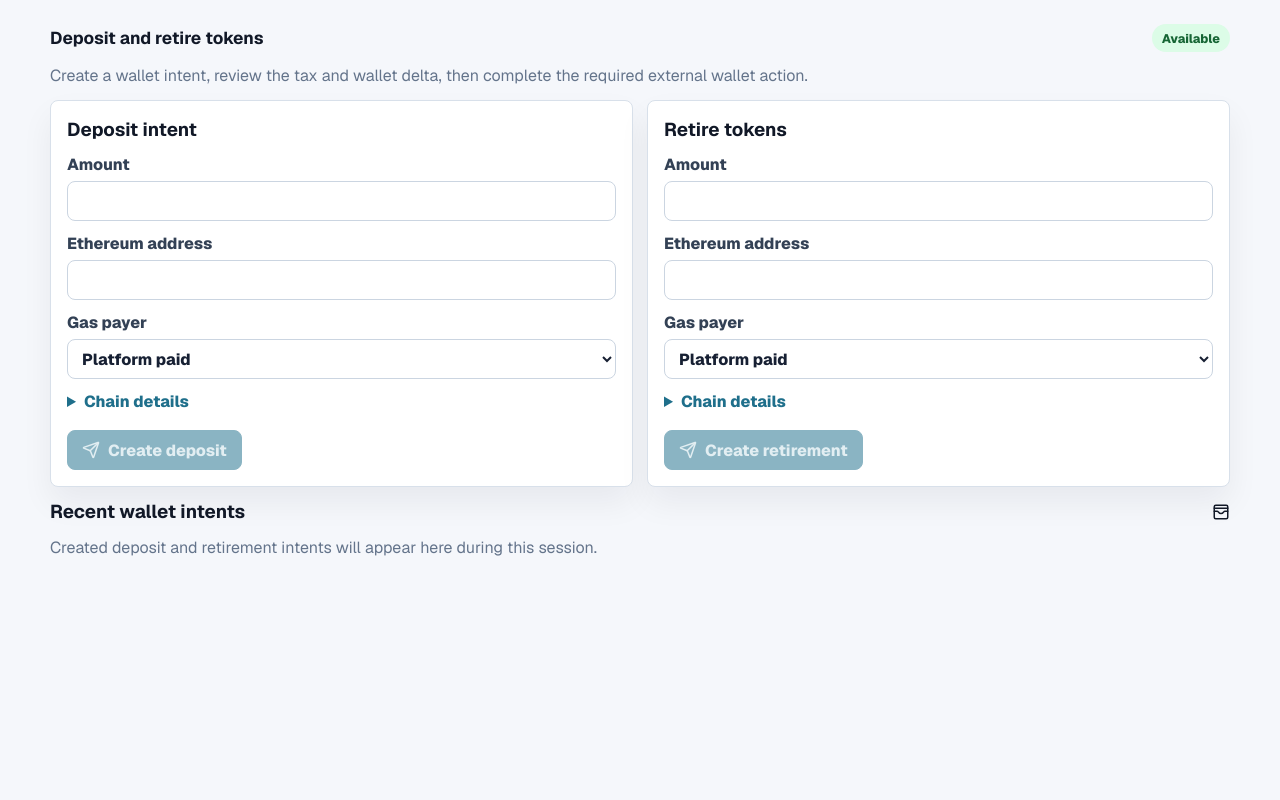
it: WalletTransferPanel › creates a deposit intent and shows tax, delta, receiver, and wallet action
Check: the form "Deposit intent" is shown, box [50,100,633,487]
Type "20" into the number field labelled "Amount" below "Deposit intent". click: (342, 201)
box: [67,181,616,221]
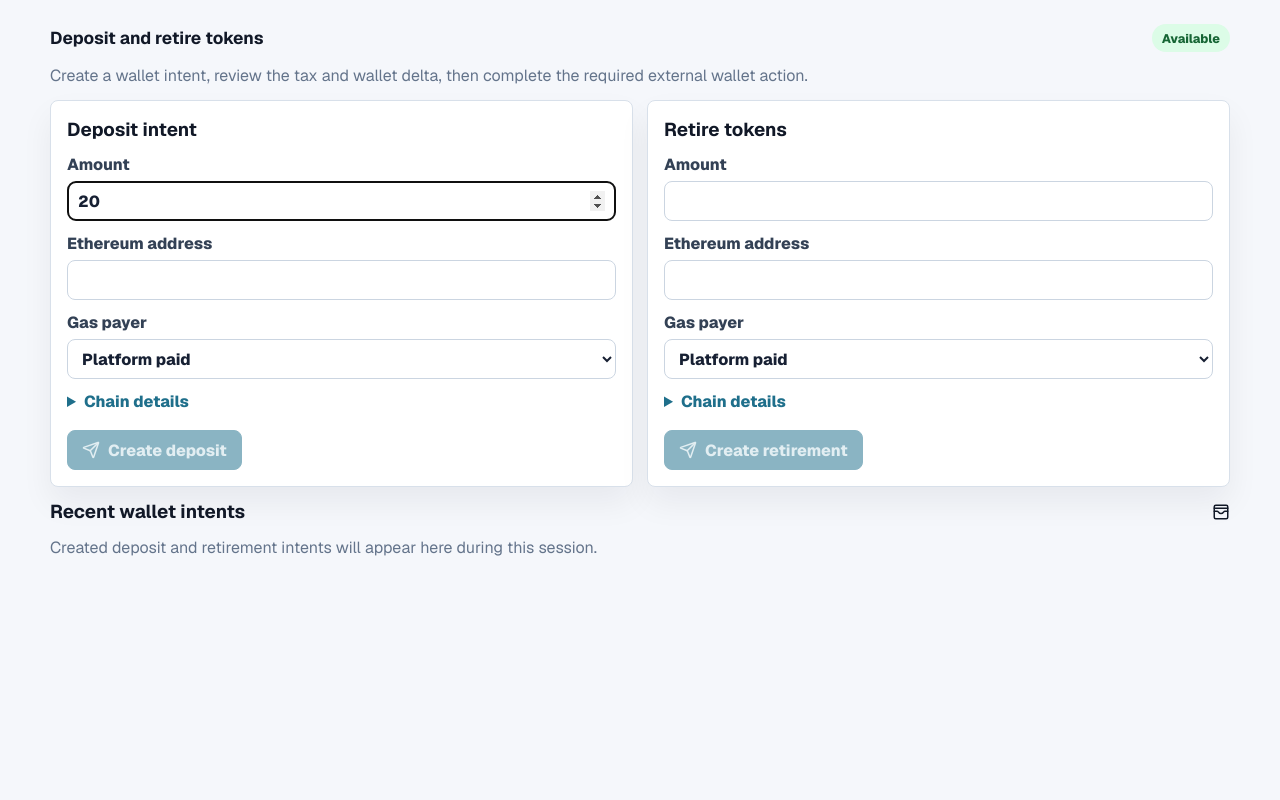
Type "0xwallet" into the field labelled "Ethereum address" below "Deposit intent". click: (342, 280)
box: [67,260,616,300]
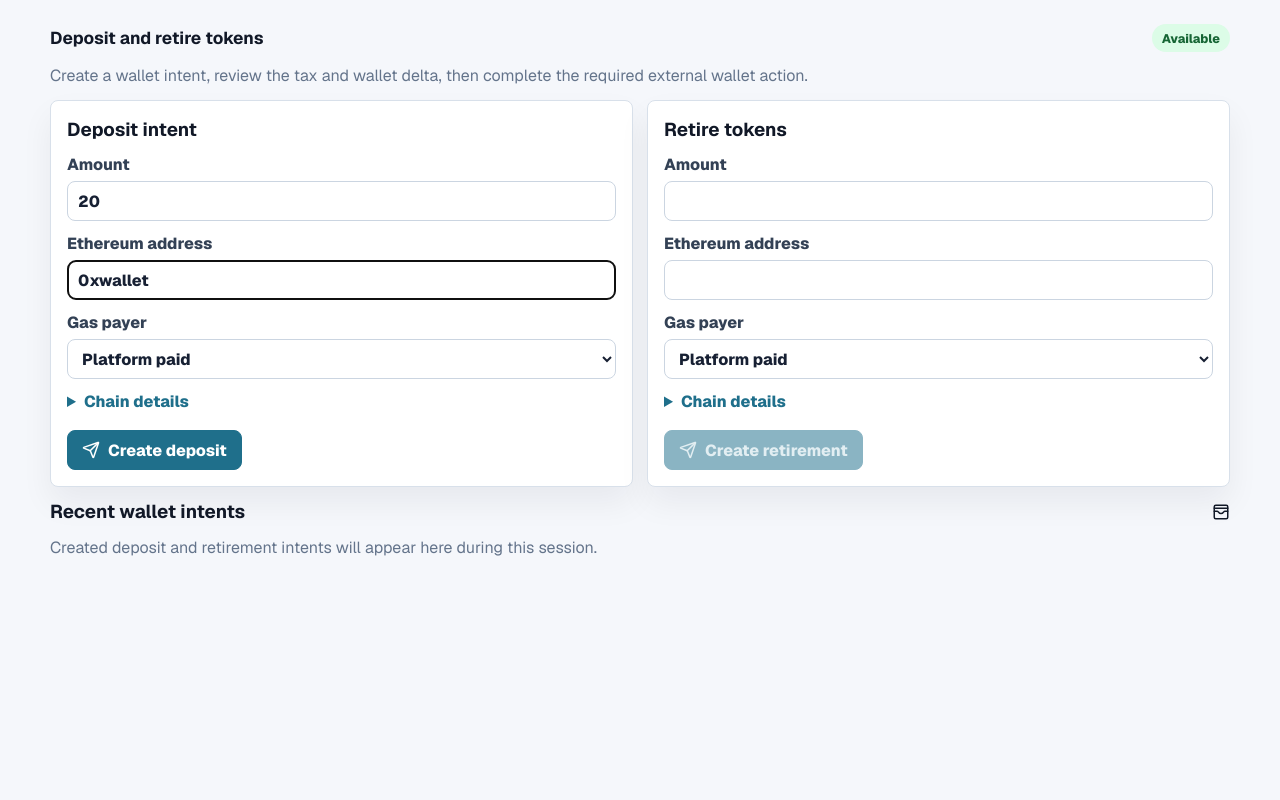
Click the button "Create deposit". click: (154, 450)
box: [67,430,242,470]
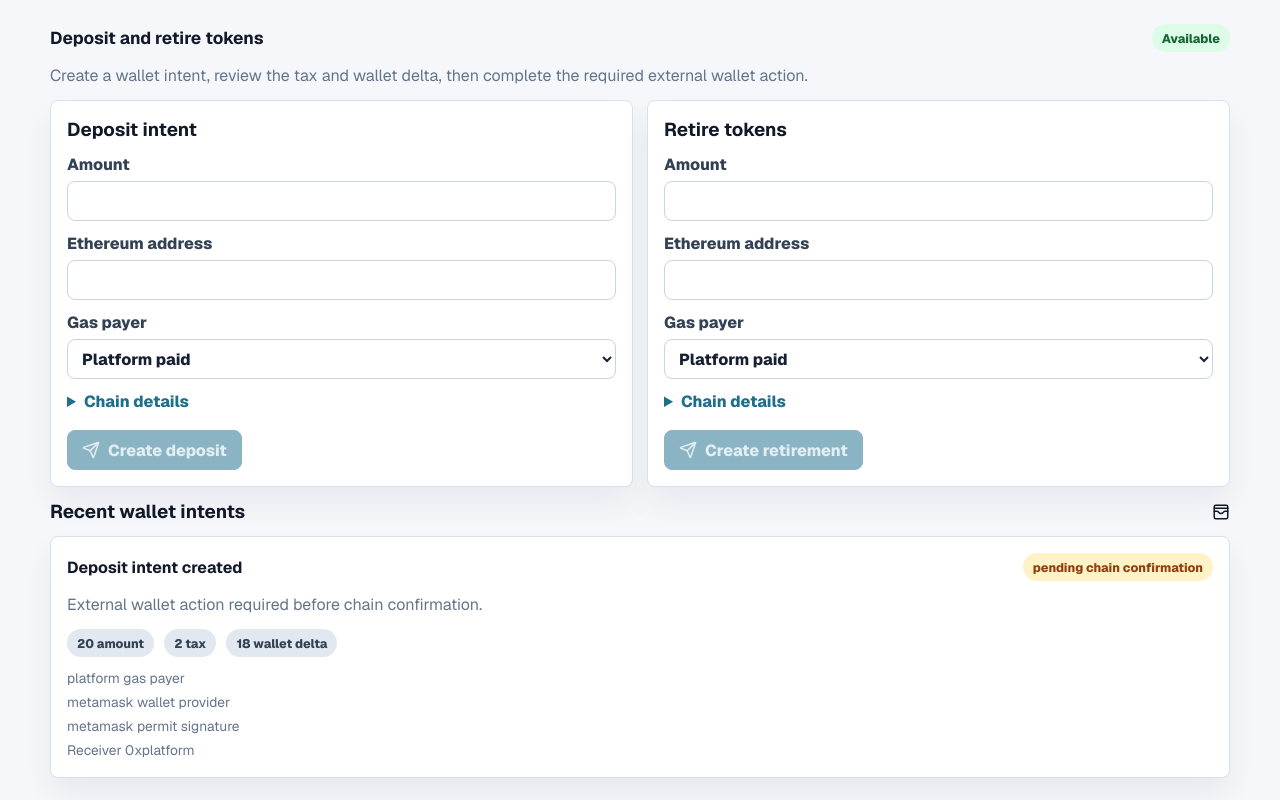
Check: the heading "Deposit intent created" is shown, box [67,556,242,578]
Check: the text "2 tax" is shown, box [164,629,216,657]
Check: the text "18 wallet delta" is shown, box [226,629,338,657]
